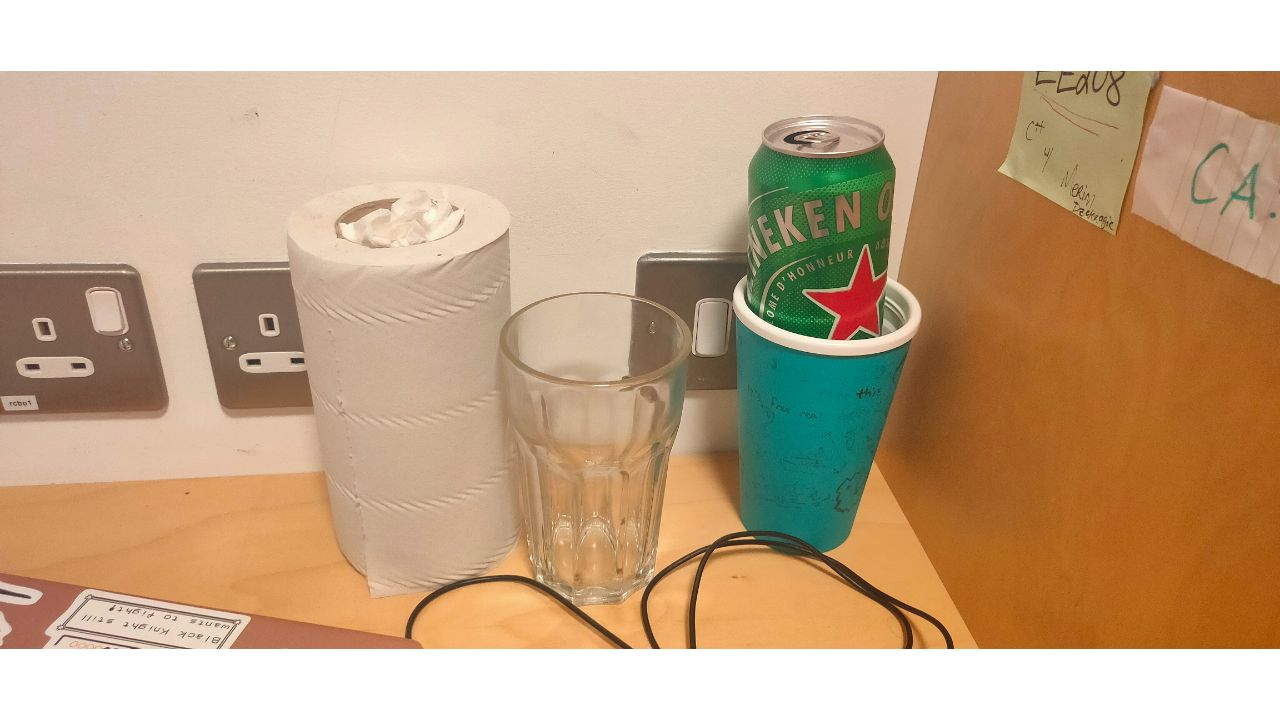Can: (750, 112, 895, 342)
